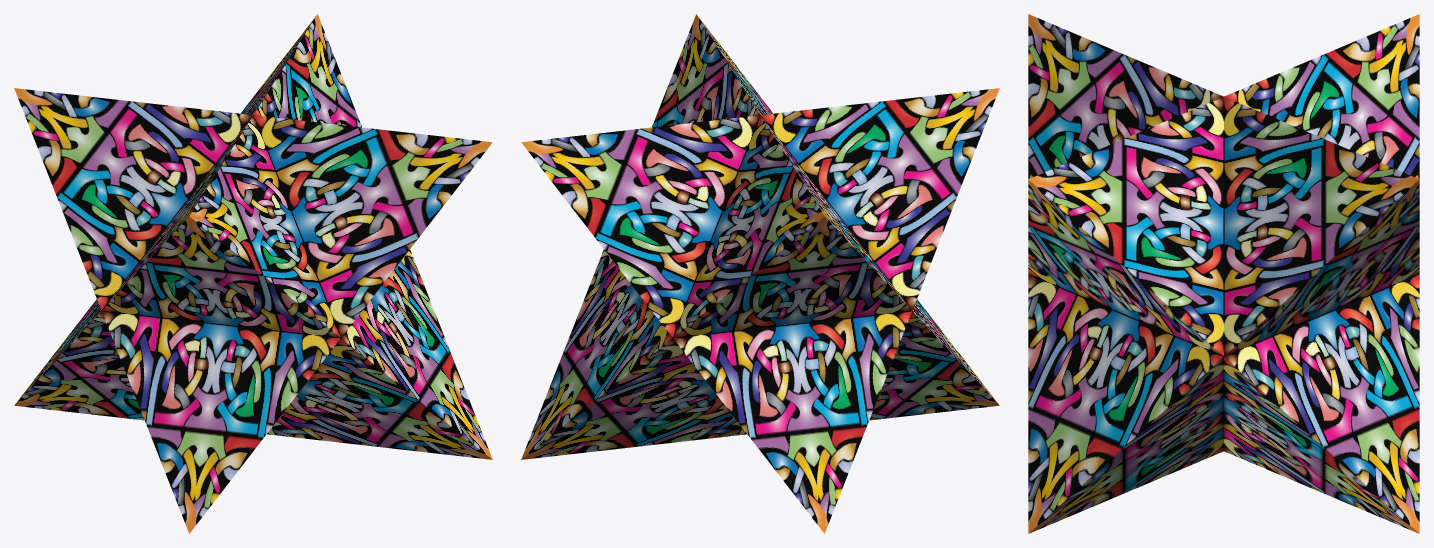
The model's file is 33StellaOctangula.obj.
3 views of the same model, side by side, from view 1: azimuth 30°, elevation 25°; view 2: azimuth 150°, elevation 25°; view 3: azimuth 270°, elevation 25° (orthographic). The views are drawn at different scales.
Size of the model in its own units: 0.7071 by 0.7071 by 0.7071.
Materials: 1 (1 with a texture image).
